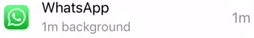name: (38, 1, 113, 18)
time: (40, 21, 60, 36)
